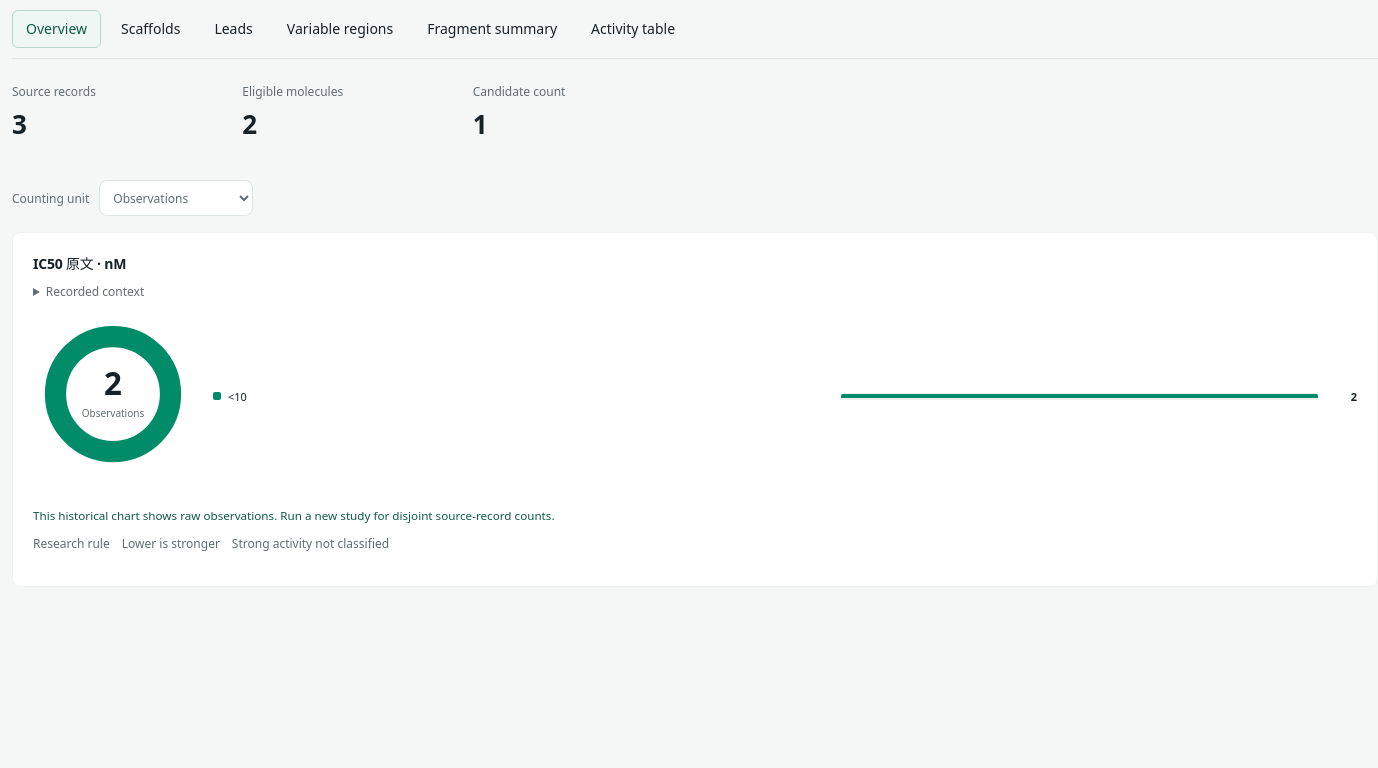
complete study report and lifecycle › keeps unclassified fragments visible by default rather than silently selecting strong-only
Click the button "Fragment summary": coordinates (492, 29) [413,10,571,48]
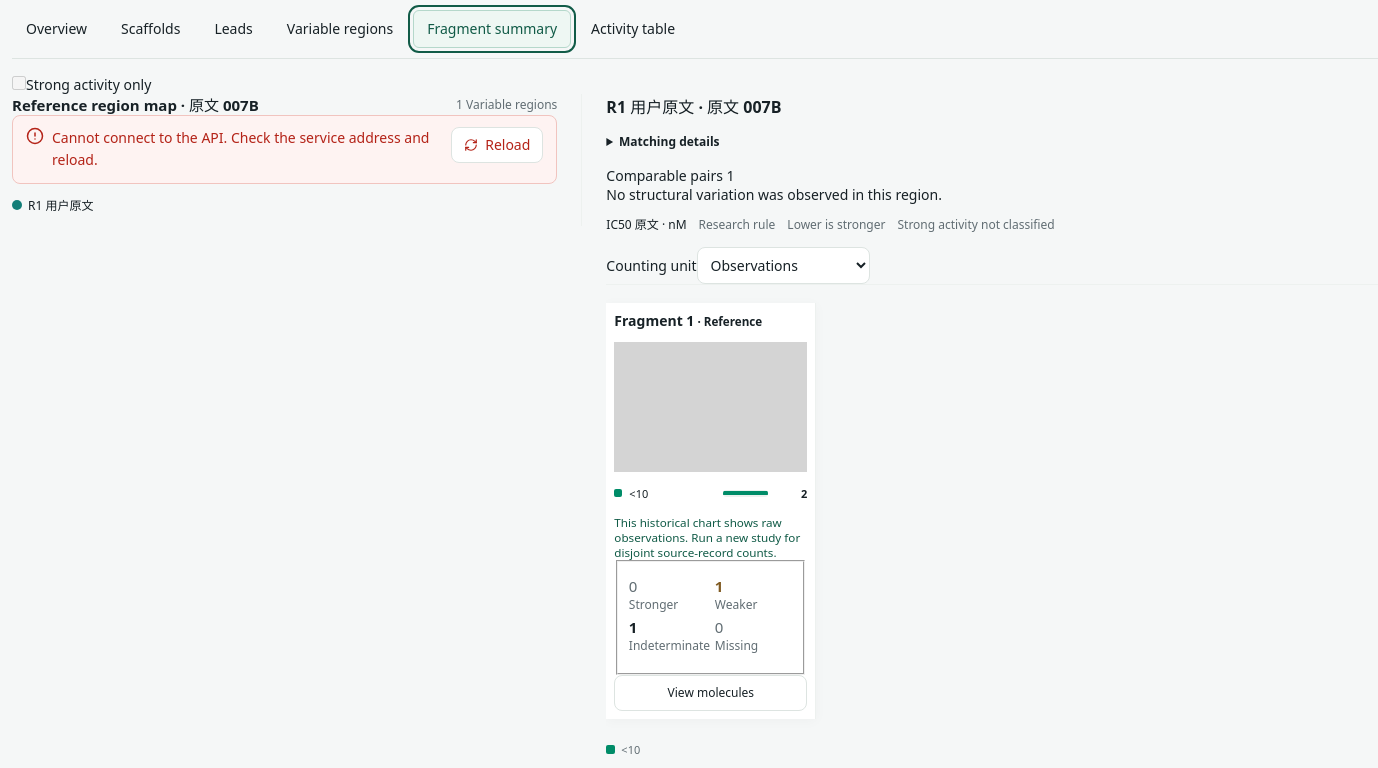
Expected: the checkbox labelled "Strong activity only" is not checked, [12,76,26,90]
Expected: the checkbox labelled "Strong activity only" is disabled, [12,76,26,90]
Expected: the heading "Fragment 1 · Reference" is shown, [614,311,762,330]
